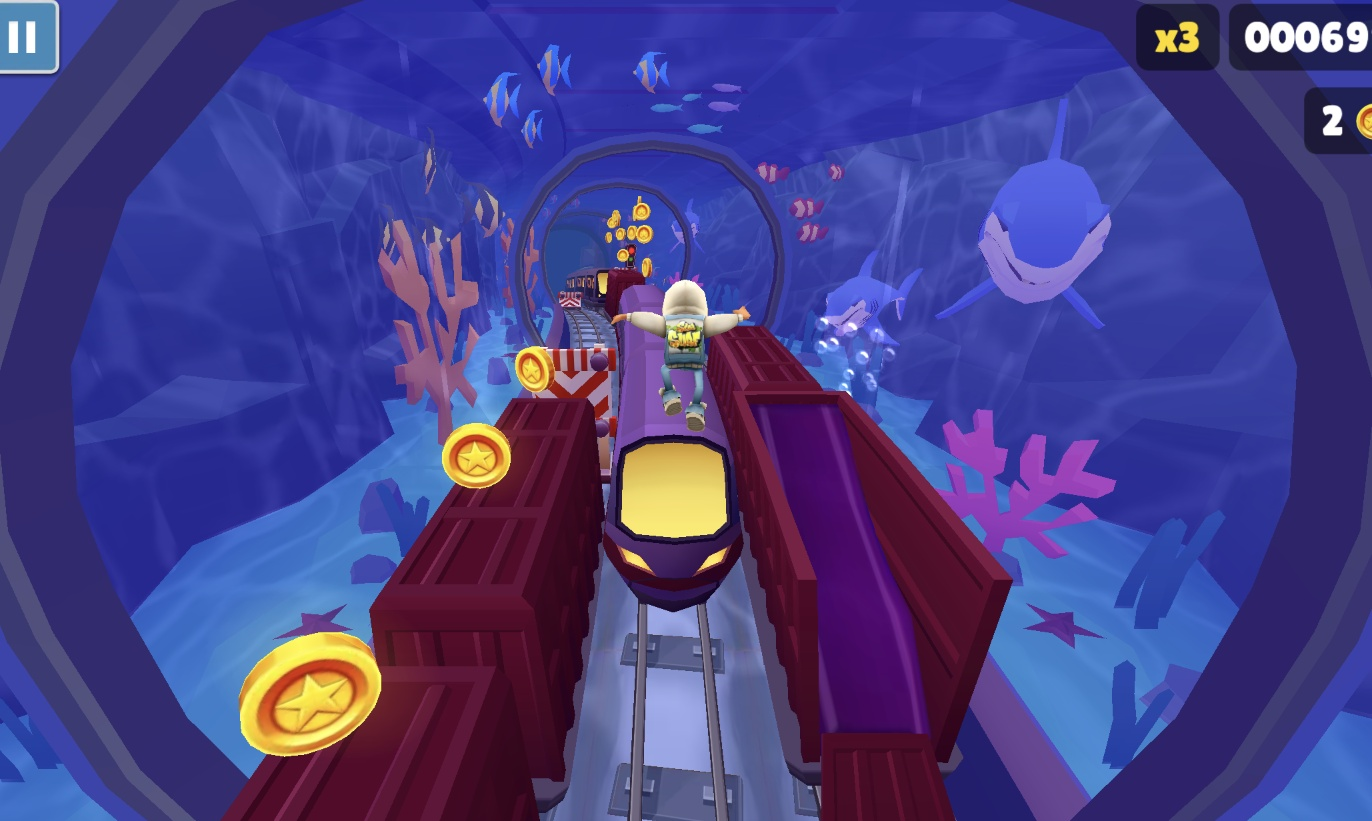ground_barrier: (559, 292, 587, 313)
overhead_barrier: (536, 344, 619, 449)
train: (232, 383, 614, 821), (697, 322, 1022, 821), (600, 280, 746, 612), (583, 269, 648, 322), (566, 273, 595, 309)
